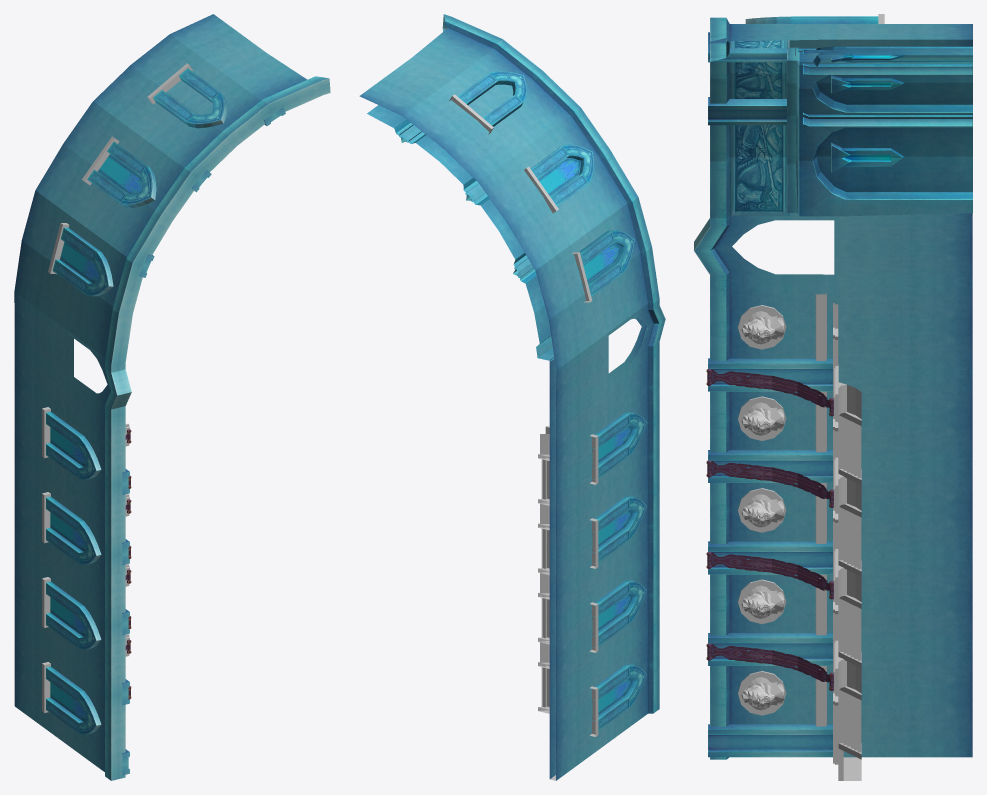
File: huodong_fuben_660_qiangbi.obj
The picture shows the model from 3 angles, left to right: view 1: azimuth 30°, elevation 25°; view 2: azimuth 150°, elevation 25°; view 3: azimuth 270°, elevation 25°; orthographic projection. The views are drawn at different scales.
Visible parts, largest first — view 1: huodong_fuben_660_qiangbi; view 2: huodong_fuben_660_qiangbi; view 3: huodong_fuben_660_qiangbi.
Boxes of the visible parts, x1,y1,x2,y2 form: huodong_fuben_660_qiangbi: [14, 14, 330, 780]; huodong_fuben_660_qiangbi: [359, 14, 665, 780]; huodong_fuben_660_qiangbi: [694, 14, 972, 780].
Bounding box in the file's own units: 1539 × 4310 × 1285.
